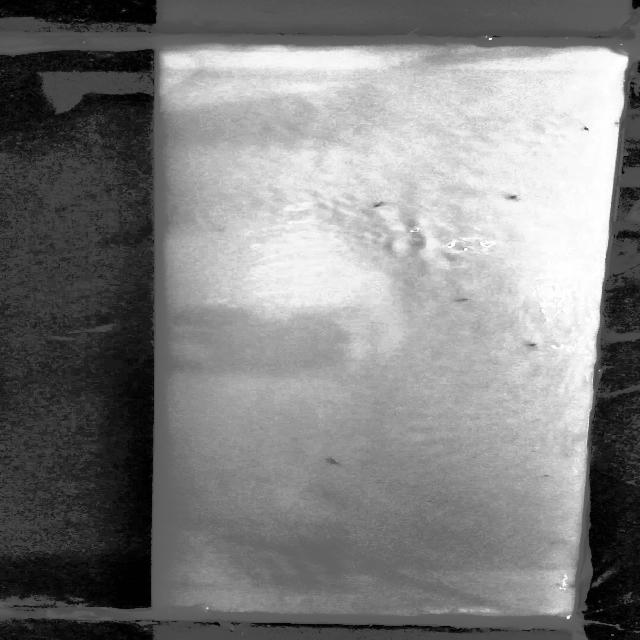shrimp: (367, 198, 390, 210), (320, 454, 340, 467), (498, 192, 522, 202), (524, 338, 537, 352), (573, 124, 591, 131)
